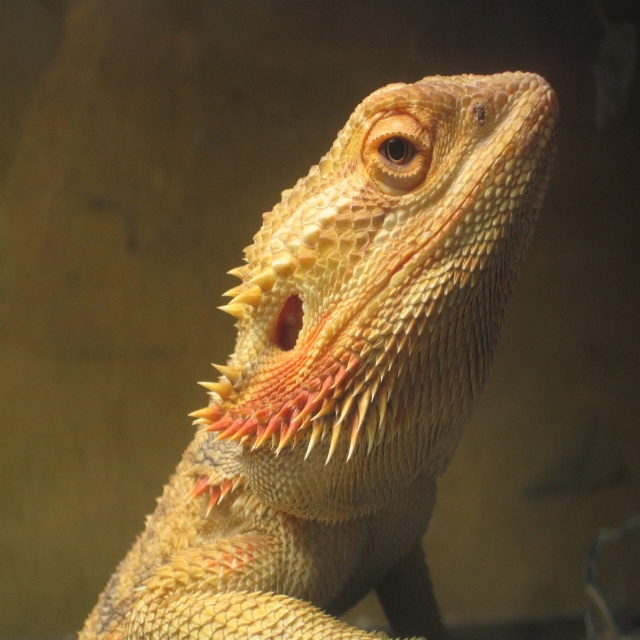Lizard: (92, 59, 558, 640)
